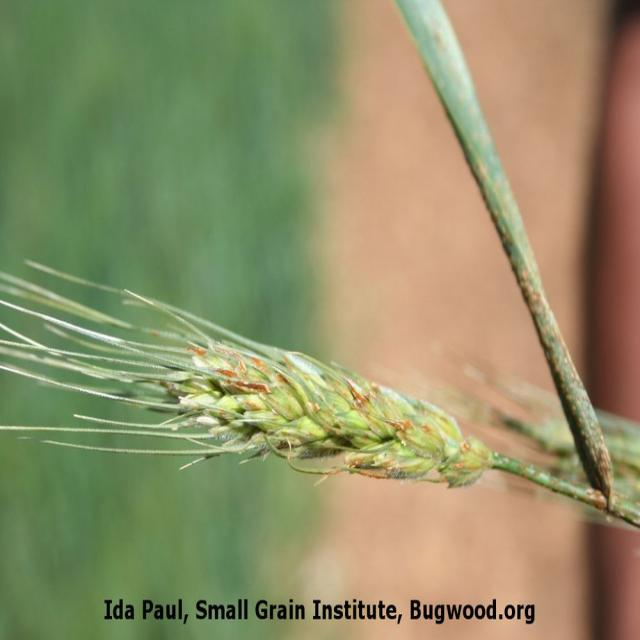wheat-stemrust: (22, 263, 499, 488)
